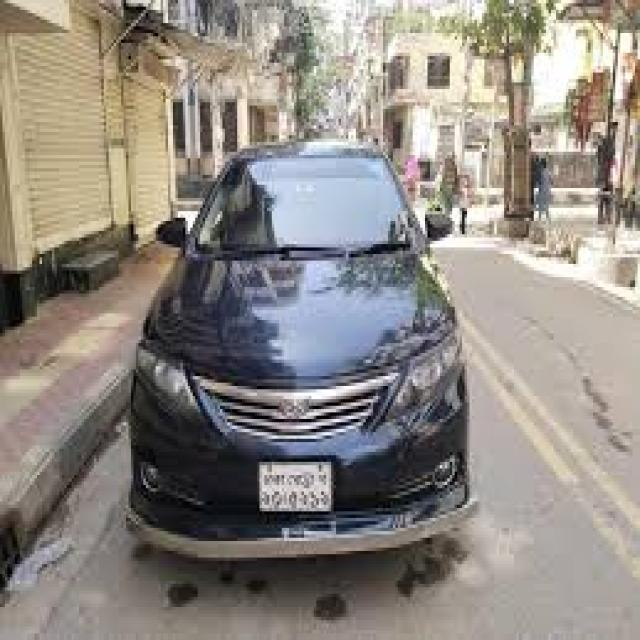black: (131, 140, 474, 554)
